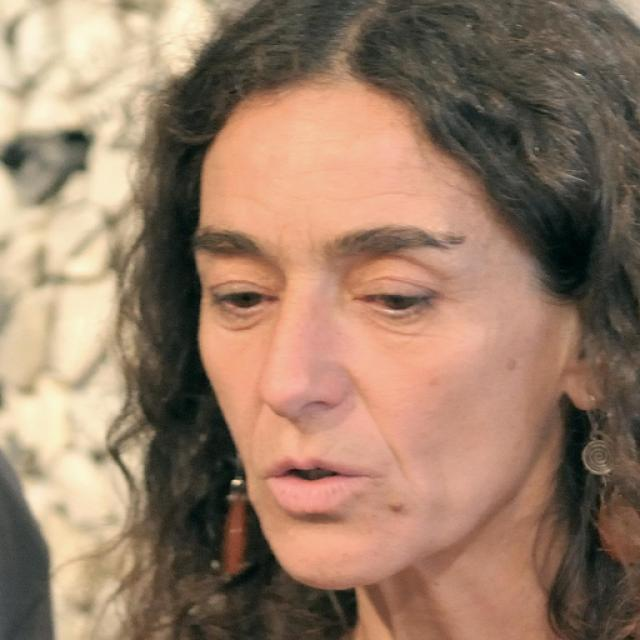sad: (195, 78, 554, 582)
